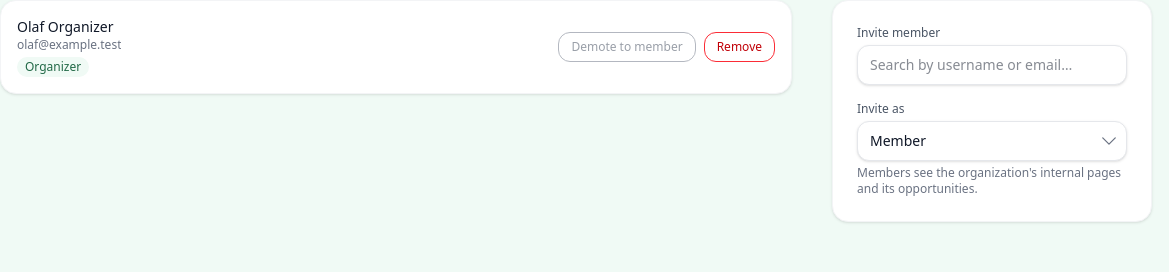
Test: OrgMembersPage role explanations › describes the role the invite picker is currently set to
Expected: the text "Members see the organization's internal pages" is shown, 857,164 -> 1121,197
Select "Organizer" in the dropdown with id "invite-role" at [992, 141], box 857,121 -> 1127,161
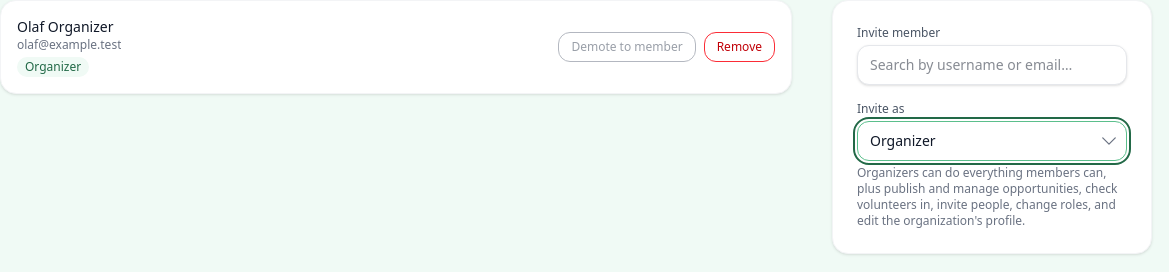
Now the text "Organizers can do everything members can" is shown, box 857,164 -> 1117,229
